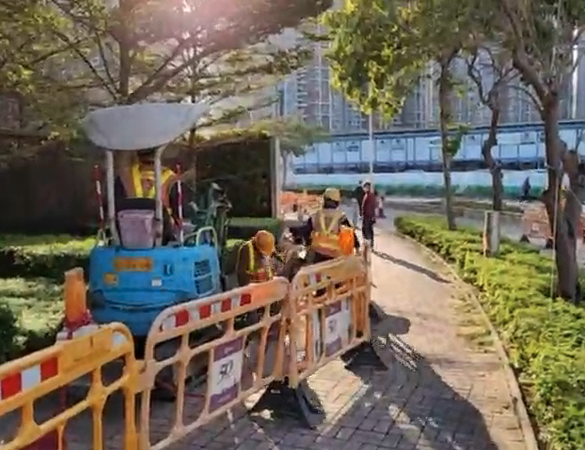Hard Hat: (251, 229, 276, 258), (320, 188, 341, 212)
Person: (361, 181, 377, 252)
Vest: (119, 156, 182, 216), (312, 198, 348, 258), (238, 240, 275, 287)
